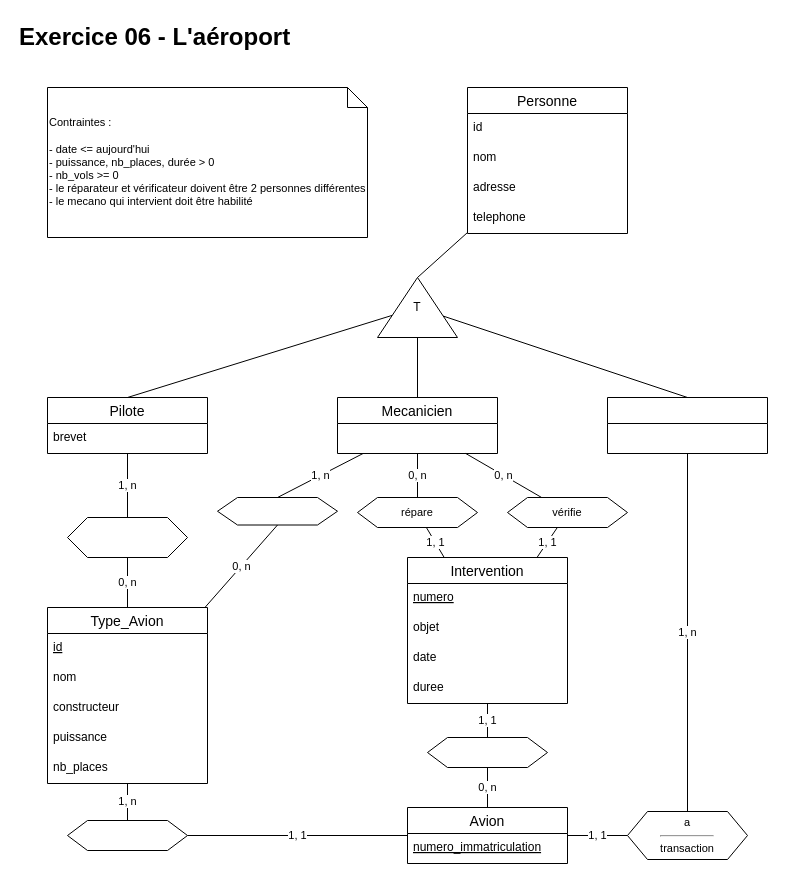
This 785x883 diagram has some shape labels left out. The shapes that lost their labels are listed below. From the top down, each one's centre as x and y in pixels, then its label:
point (687, 425): Proprietaire
point (277, 510): est habilité
point (127, 537): pilote nb_vols
point (487, 752): maintenance
point (127, 835): possède
